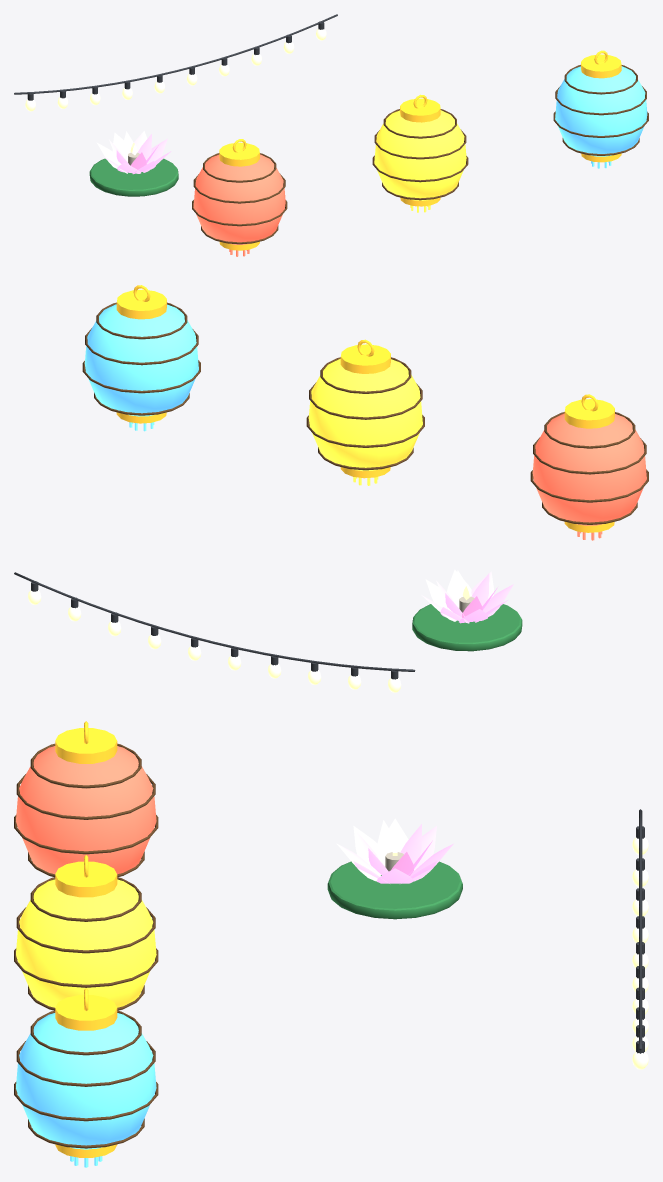
Rendered from lanternas.glb.
3 renders of one model, top to bottom at view 1: azimuth 30°, elevation 25°; view 2: azimuth 150°, elevation 25°; view 3: azimuth 270°, elevation 25°, orthographic. The views are drawn at different scales.
Visible parts, largest first — view 1: lanterna-vermelha, lanterna-amarela, lanterna-azul, lanterna-flutuante, varal-de-luzes; view 2: lanterna-vermelha, lanterna-amarela, lanterna-azul, lanterna-flutuante, varal-de-luzes; view 3: lanterna-azul, lanterna-amarela, lanterna-vermelha, lanterna-flutuante, varal-de-luzes.
Boxes of the visible parts, x1,y1,x2,y2 form: lanterna-vermelha: (192, 139, 287, 256); lanterna-amarela: (372, 94, 468, 212); lanterna-azul: (553, 50, 648, 168); lanterna-flutuante: (89, 131, 178, 196); varal-de-luzes: (14, 14, 337, 111); lanterna-vermelha: (530, 394, 648, 540); lanterna-amarela: (306, 339, 424, 485); lanterna-azul: (82, 285, 200, 431); lanterna-flutuante: (412, 569, 522, 651); varal-de-luzes: (14, 572, 415, 692); lanterna-azul: (14, 988, 158, 1167); lanterna-amarela: (14, 855, 158, 1010); lanterna-vermelha: (14, 721, 158, 877); lanterna-flutuante: (327, 818, 462, 919); varal-de-luzes: (632, 809, 648, 1069).
Bounding box in the file's own units: 2.76 × 0.673 × 2.25.
